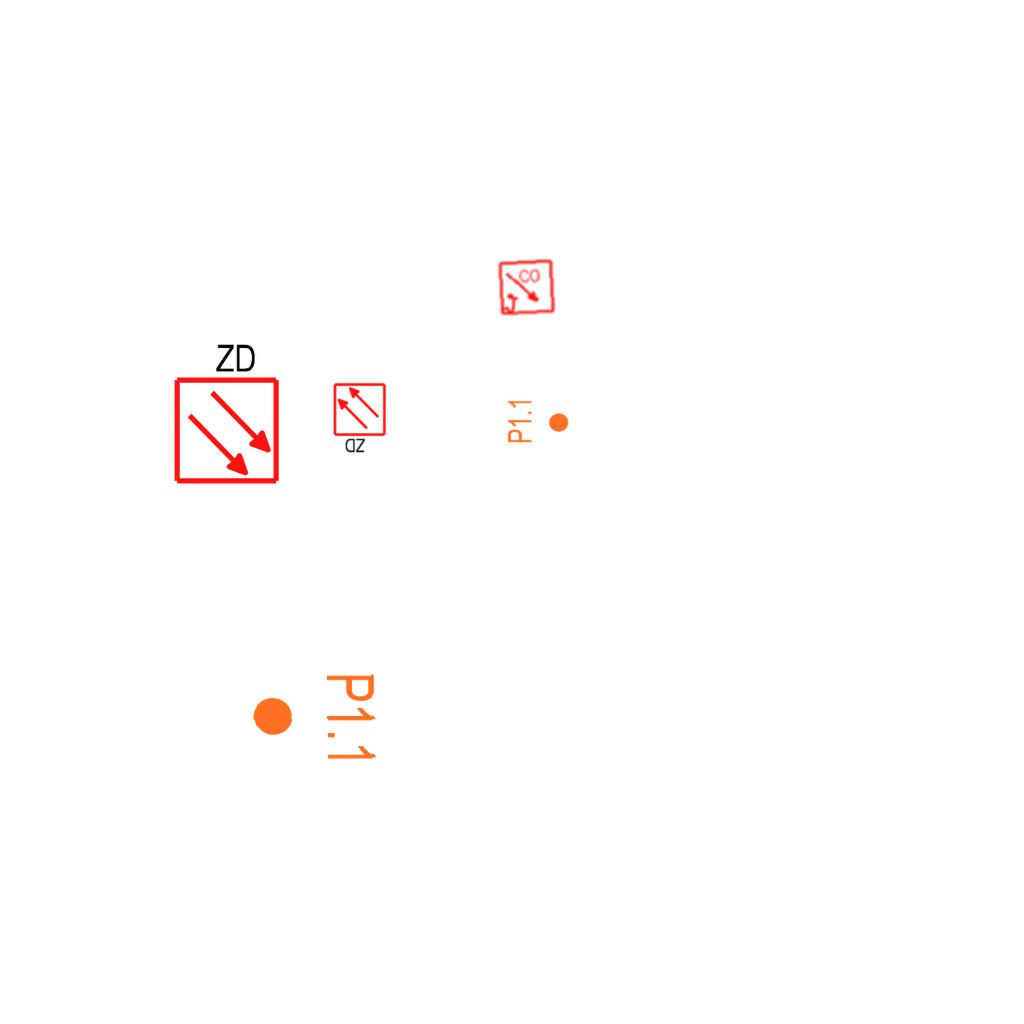Downlight_LED_Einbauleuchten_Flur: (249, 671, 380, 767), (506, 398, 570, 444)
ROA_Rauchmelder_optisch_mit_Signalgeber_(Sockelsirene): (497, 258, 557, 318)
ZD_Melder_in_Zwischendecke_mit_Revisionsoeffnung_mind_40_x_40_cm: (168, 337, 282, 486), (332, 382, 389, 456)
